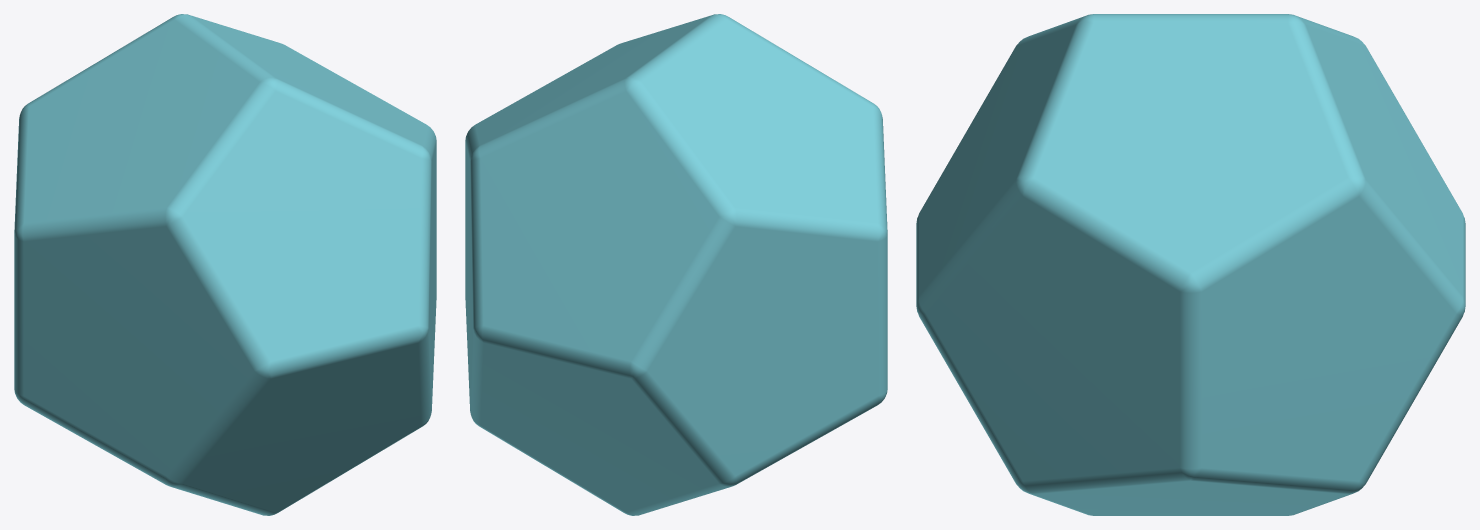
The model's file is dodecahedron.glb.
3 views of the same model, side by side, from view 1: azimuth 30°, elevation 25°; view 2: azimuth 150°, elevation 25°; view 3: azimuth 270°, elevation 25° (orthographic). The views are drawn at different scales.
Visible parts, largest first — view 1: dodecahedron; view 2: dodecahedron; view 3: dodecahedron.
Part boxes in pixels (x1,y1,x2,y2): dodecahedron: [14, 14, 436, 515]; dodecahedron: [465, 14, 887, 515]; dodecahedron: [916, 14, 1465, 515].
Bounding box in the file's own units: 3.19 × 3.19 × 3.19.
